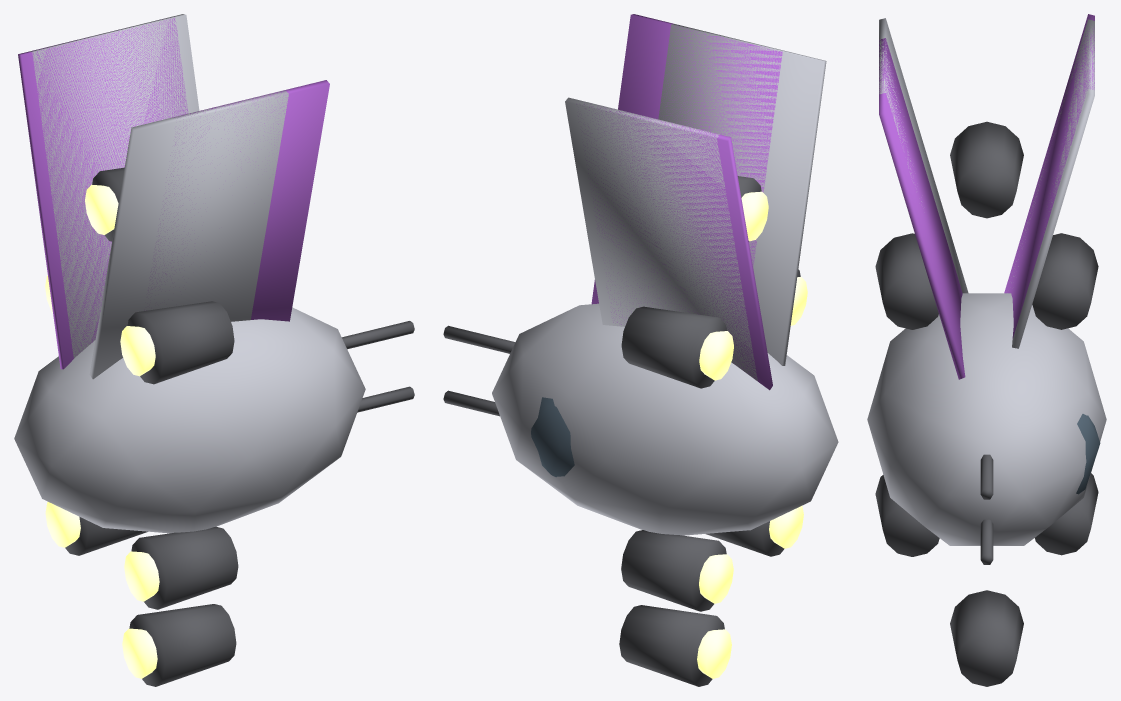
File: enemy-ship-4.glb
3 views of the same model, side by side, from view 1: azimuth 30°, elevation 25°; view 2: azimuth 150°, elevation 25°; view 3: azimuth 270°, elevation 25° (orthographic).
Parts seen in each view (by area): view 1: Starfighter; view 2: Starfighter; view 3: Starfighter.
Boxes of the visible parts, x1,y1,x2,y2 form: Starfighter: (14, 14, 414, 686); Starfighter: (443, 14, 838, 686); Starfighter: (867, 14, 1106, 686).
Size of the model in its own units: 0.9741 by 1.5 by 0.5361.
